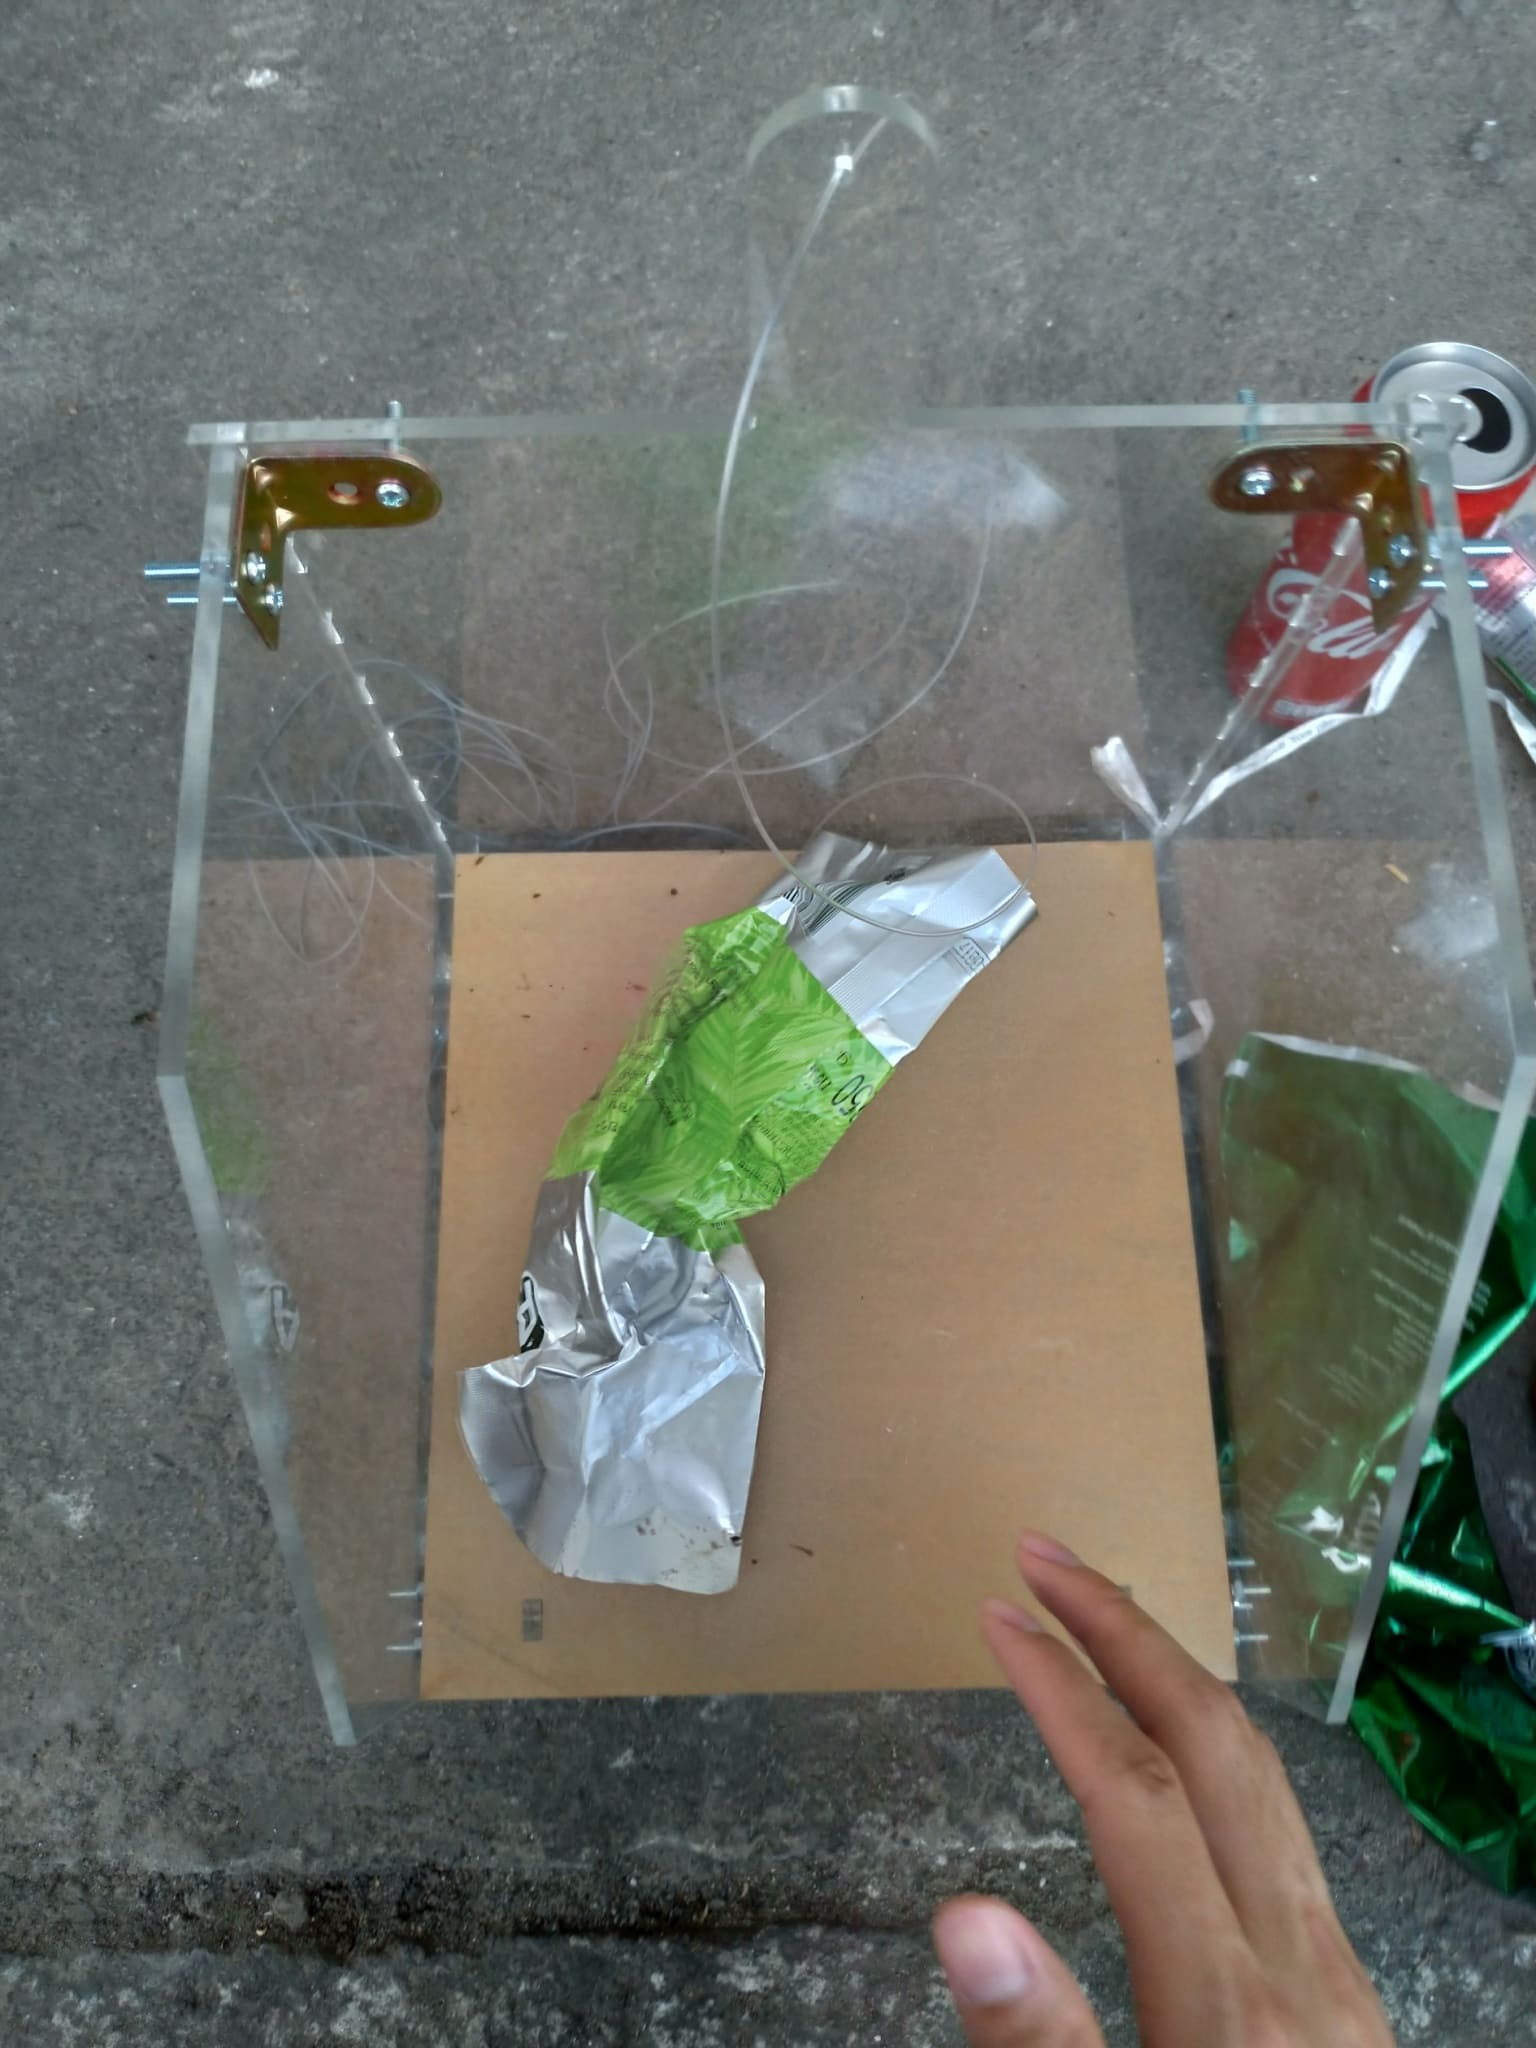AlCan: (1225, 335, 1534, 745)
Others: (463, 834, 1037, 1598), (1197, 1021, 1536, 1892)
